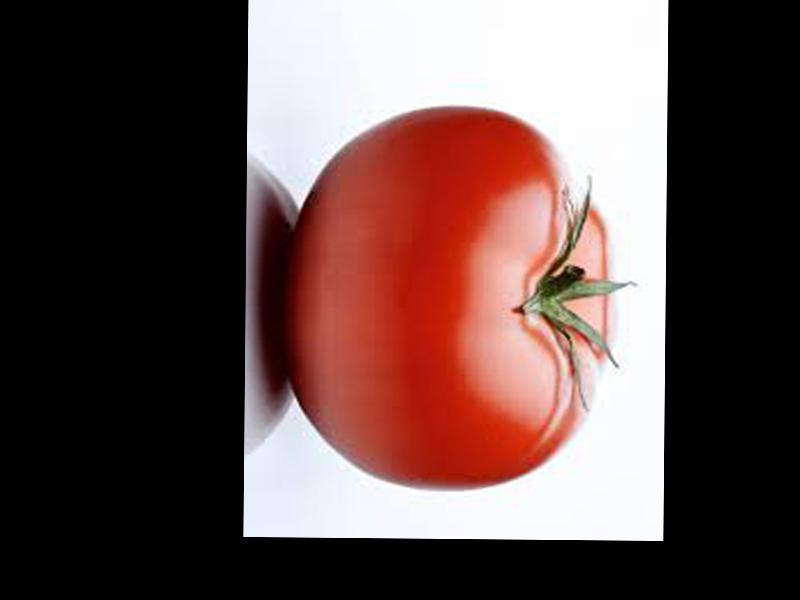Tomato: (286, 106, 614, 492)
